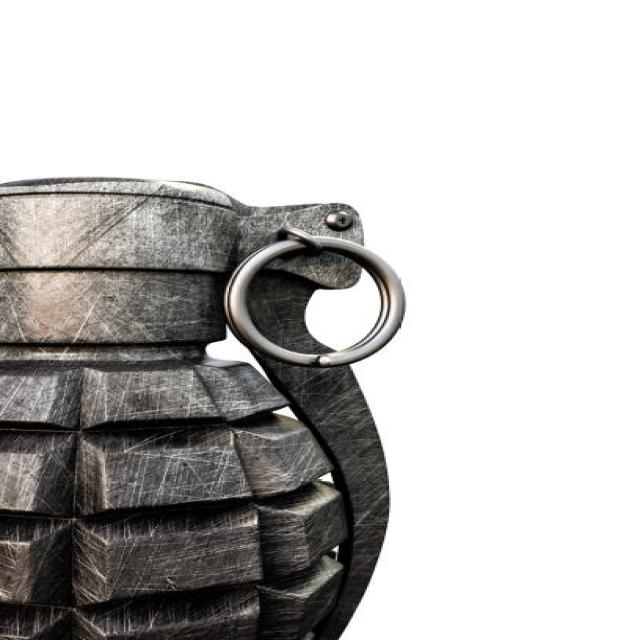grenade: (8, 164, 421, 640)
